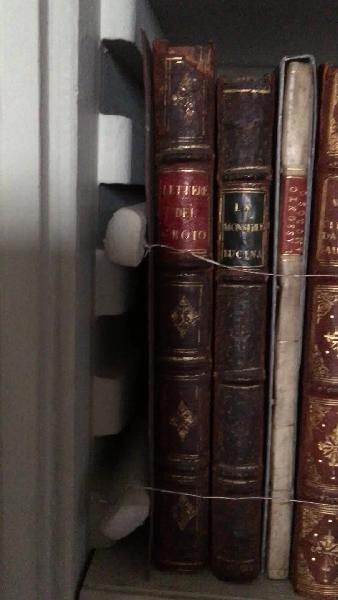Aa6-1: (150, 34, 211, 572)
Aa6-2: (212, 54, 270, 586)
Aa6-3: (273, 38, 313, 582)
